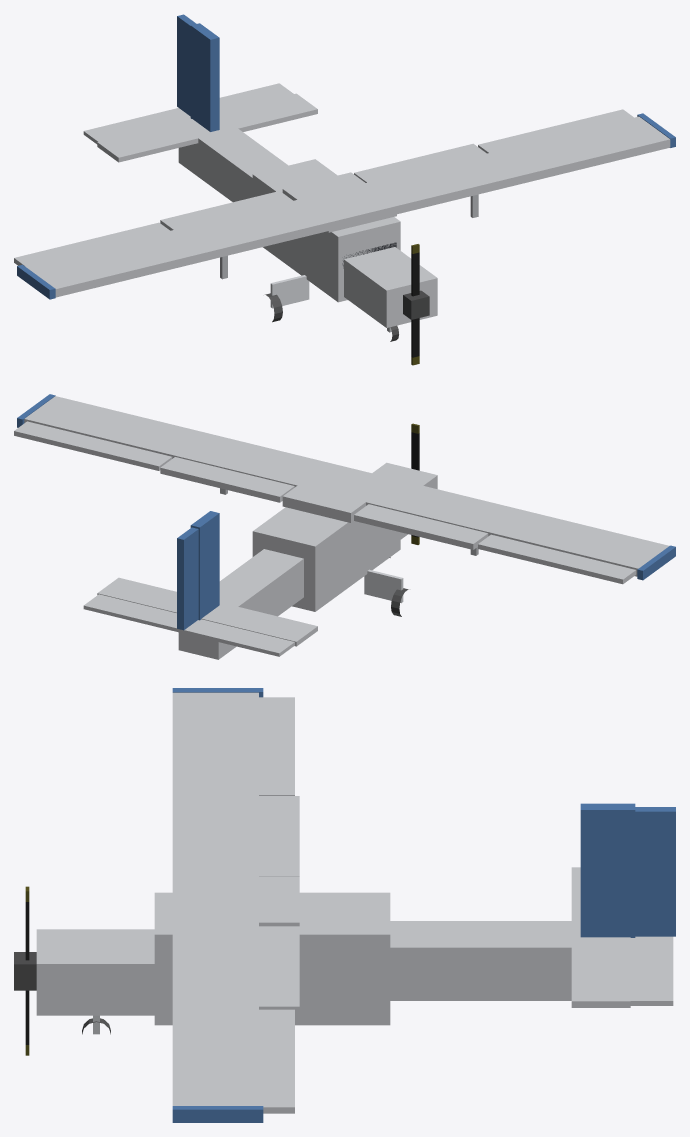
Rendered from cessna172.glb.
3 renders of one model, top to bottom at view 1: azimuth 30°, elevation 25°; view 2: azimuth 150°, elevation 25°; view 3: azimuth 270°, elevation 25°, orthographic. The views are drawn at different scales.
Parts seen in each view (by area): view 1: Wings, Fuselage, Elevator, Aileron_L, Aileron_R, Flap_L, Flap_R, Propeller, Rudder, LandingGear; view 2: Wings, Fuselage, Elevator, Aileron_L, Aileron_R, Flap_L, Flap_R, Rudder, LandingGear, Propeller; view 3: Wings, Fuselage, Rudder, Aileron_R, Aileron_L, Flap_R, Flap_L, Elevator, Propeller.
Boxes of the visible parts, x1,y1,x2,y2 form: Wings: [17, 23, 675, 299]; Fuselage: [178, 115, 437, 327]; Elevator: [83, 83, 293, 144]; Aileron_L: [14, 222, 169, 266]; Aileron_R: [478, 109, 633, 153]; Flap_L: [160, 191, 292, 230]; Flap_R: [354, 143, 486, 182]; Propeller: [403, 244, 429, 365]; Rudder: [177, 14, 196, 116]; LandingGear: [265, 252, 402, 341]; Wings: [17, 394, 675, 646]; Fuselage: [178, 462, 437, 659]; Elevator: [83, 594, 294, 656]; Aileron_L: [478, 534, 636, 584]; Aileron_R: [14, 421, 172, 470]; Flap_L: [354, 504, 488, 549]; Flap_R: [160, 457, 294, 502]; Rudder: [177, 527, 198, 630]; LandingGear: [364, 557, 408, 616]; Propeller: [411, 423, 419, 544]; Wings: [172, 688, 635, 1122]; Fuselage: [36, 892, 625, 1025]; Rudder: [635, 807, 675, 936]; Aileron_R: [259, 1009, 294, 1113]; Aileron_L: [259, 697, 294, 795]; Flap_R: [259, 926, 299, 1014]; Flap_L: [259, 796, 299, 876]; Elevator: [630, 936, 673, 1005]; Propeller: [14, 886, 36, 1055].
Bounding box in the file's own units: 11 × 3 × 7.3.
